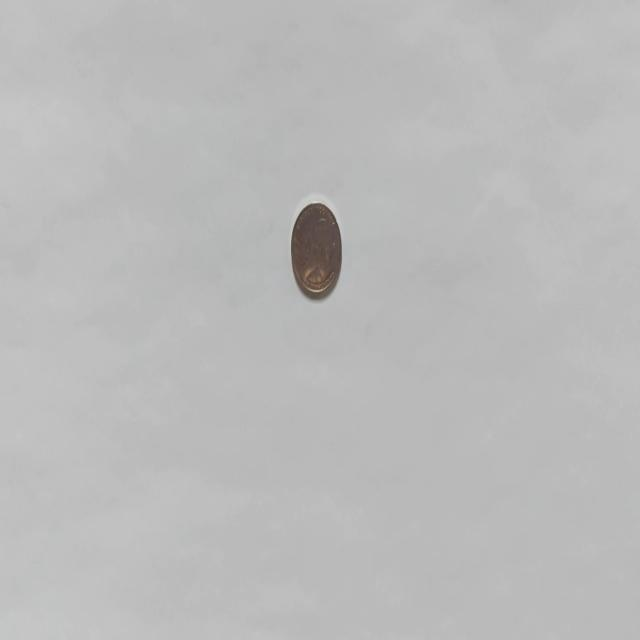seribu rupiah koin: (290, 198, 342, 300)
